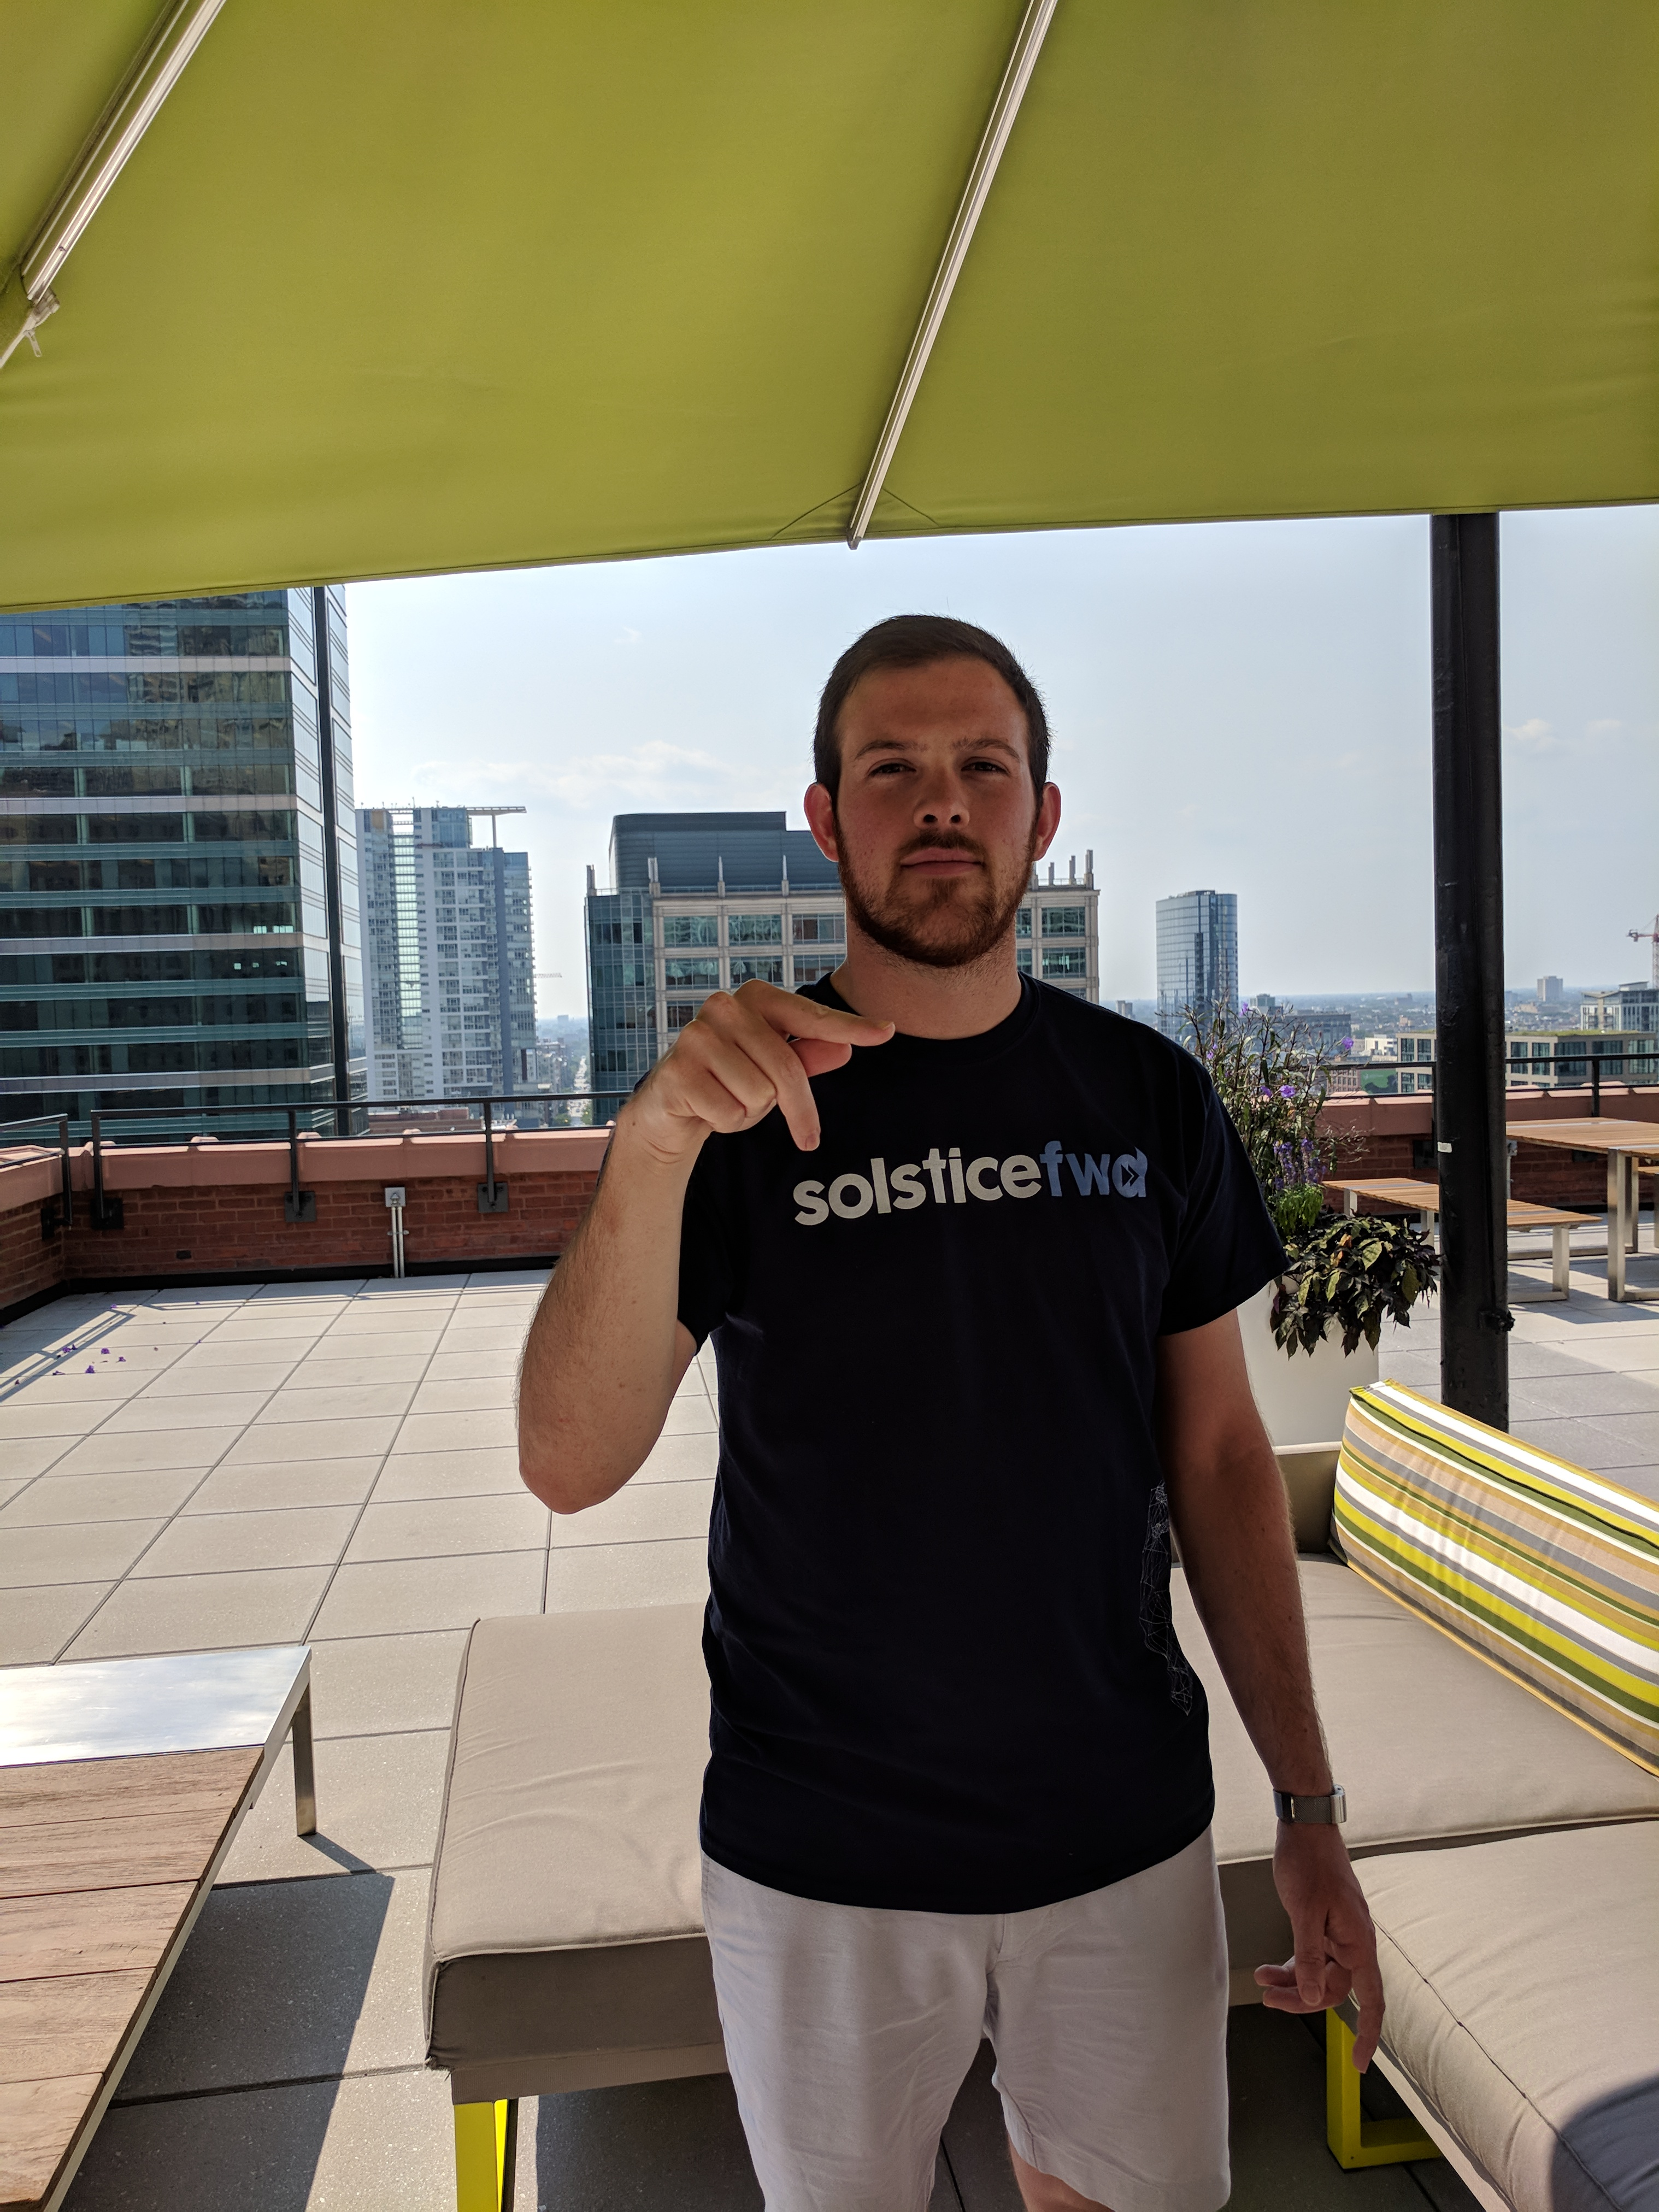p: (640, 972, 903, 1176)
